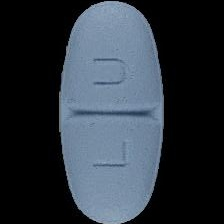52125-293: (0, 0, 224, 224)
